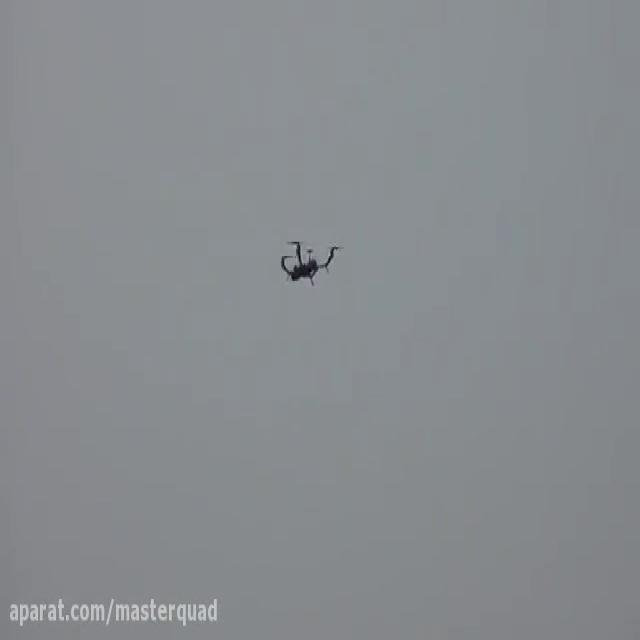drone: (277, 230, 349, 292)
